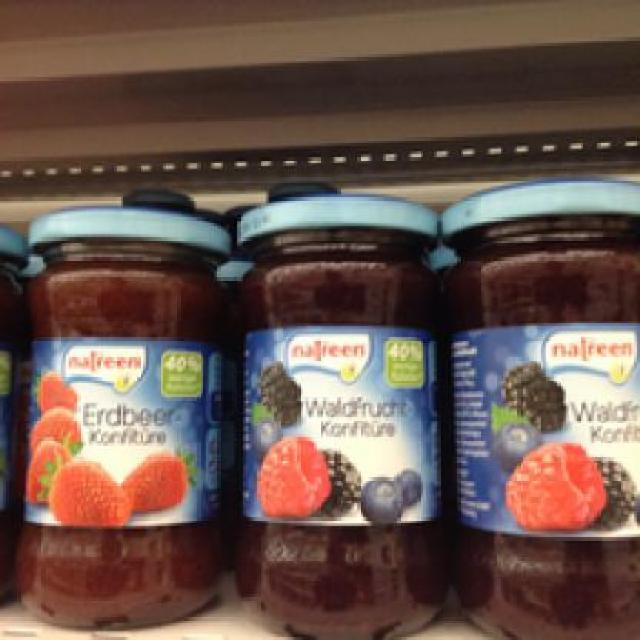Jam: (228, 192, 442, 638), (14, 203, 234, 626), (434, 175, 634, 634)
